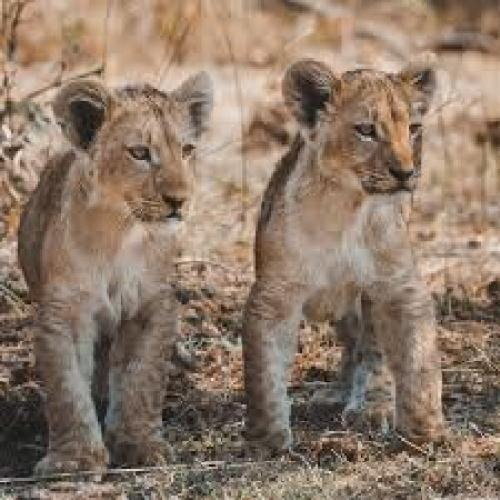lion-endangered: (255, 55, 444, 445), (24, 80, 208, 473)
